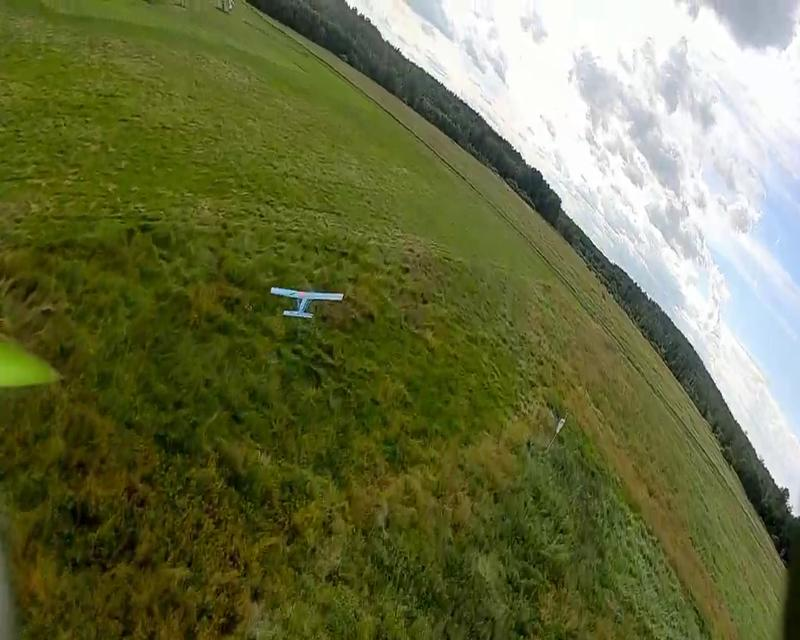UAV: (271, 286, 345, 318)
